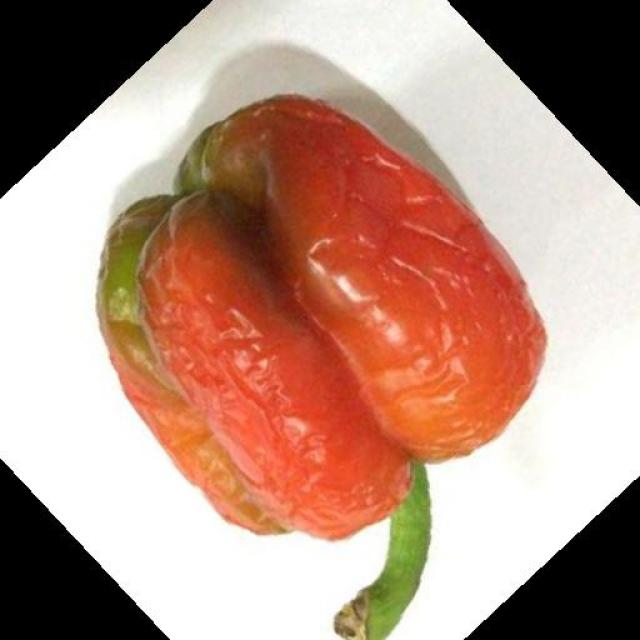Stale_Capsicum: (57, 61, 545, 640)
